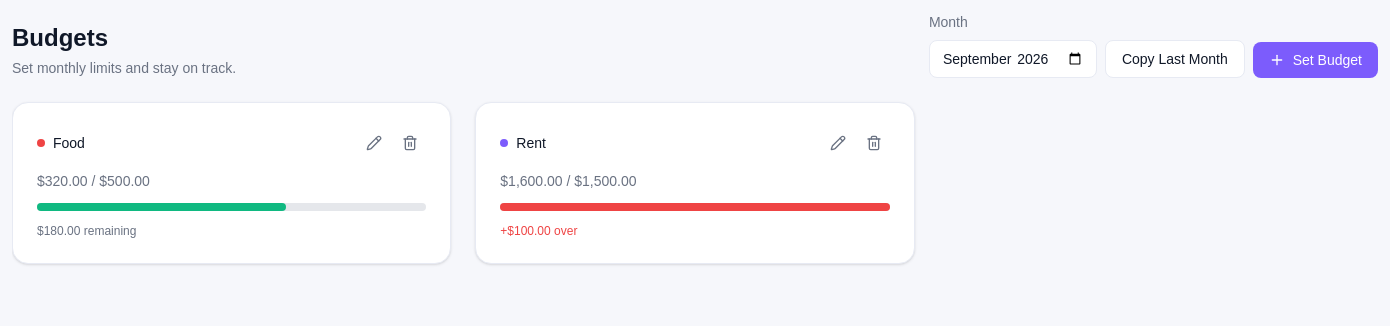
BudgetsView › shows copy errors without refreshing
Click the button "Copy Last Month".
click(1175, 59)  # box x1=1105 y1=40 x2=1245 y2=78
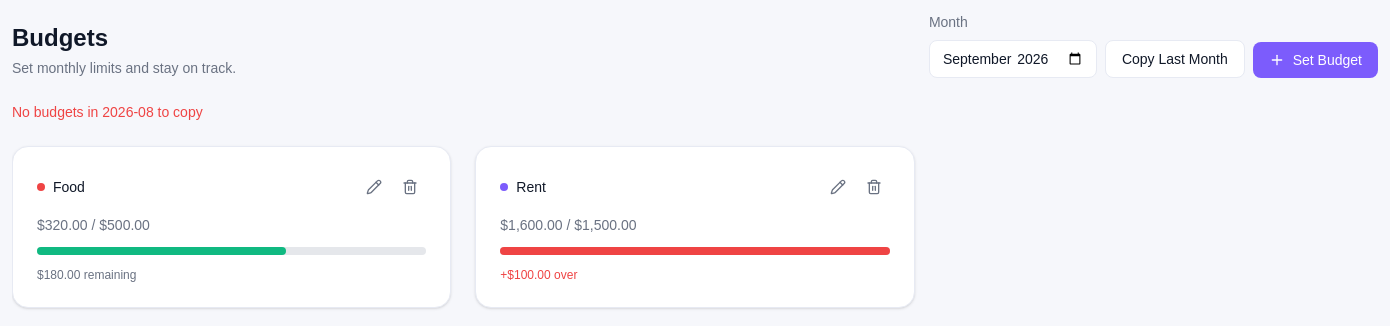
Check: the message shows "No budgets in 2026-08", box x1=12 y1=104 x2=203 y2=120
